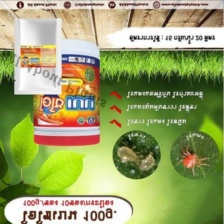insecticide: (28, 37, 102, 147), (7, 15, 64, 98)
